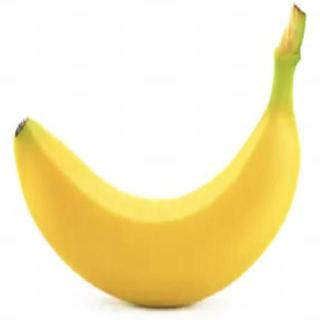banana: (11, 103, 303, 308)
